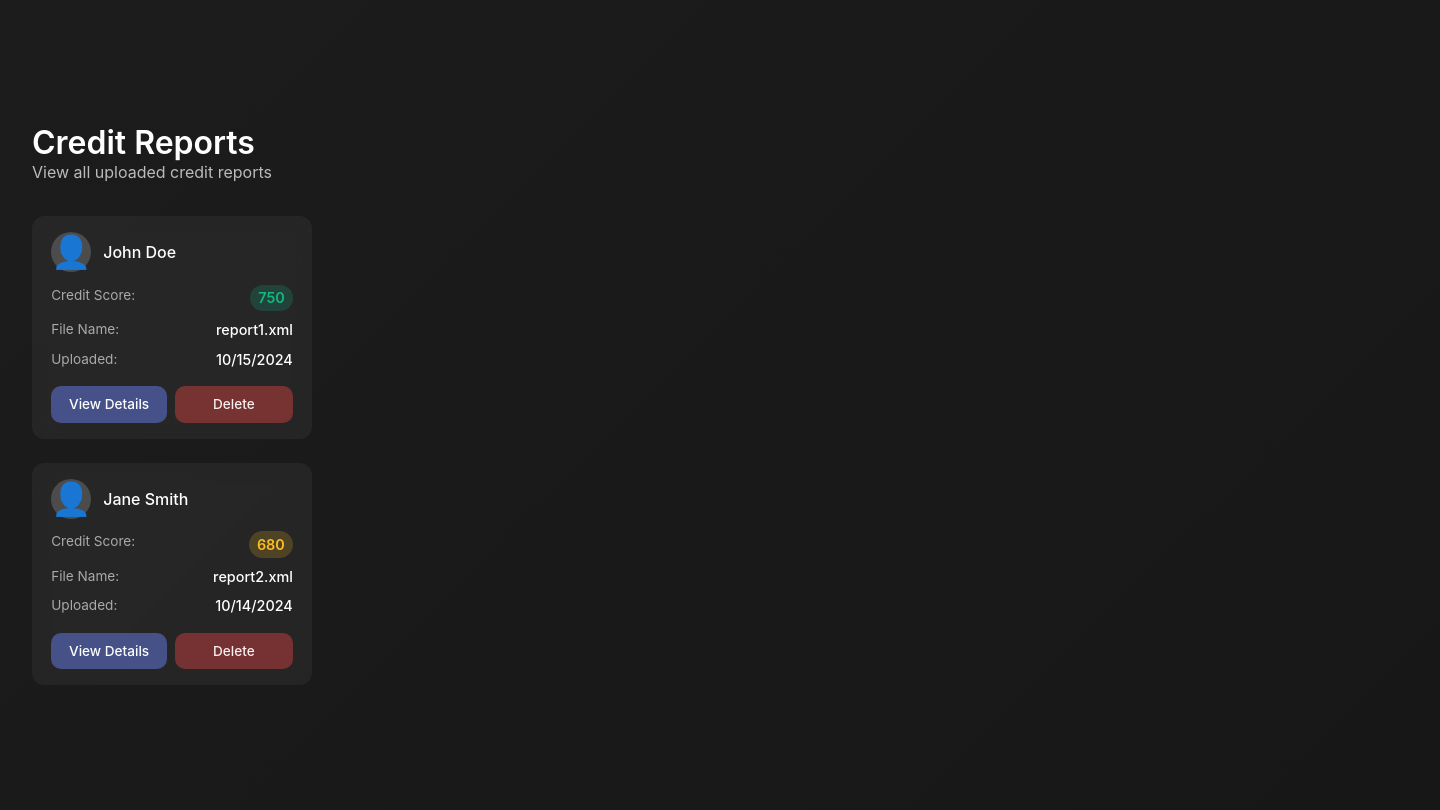
Test: ReportsListPage Component Tests › Report Actions › clicking overlay closes modal
The image size is (1440, 810).
Check: the heading "John Doe" is shown, box [103,240,176,264]
Click the button "Delete" below "10/15/2024": (234,404) [175,386,293,423]
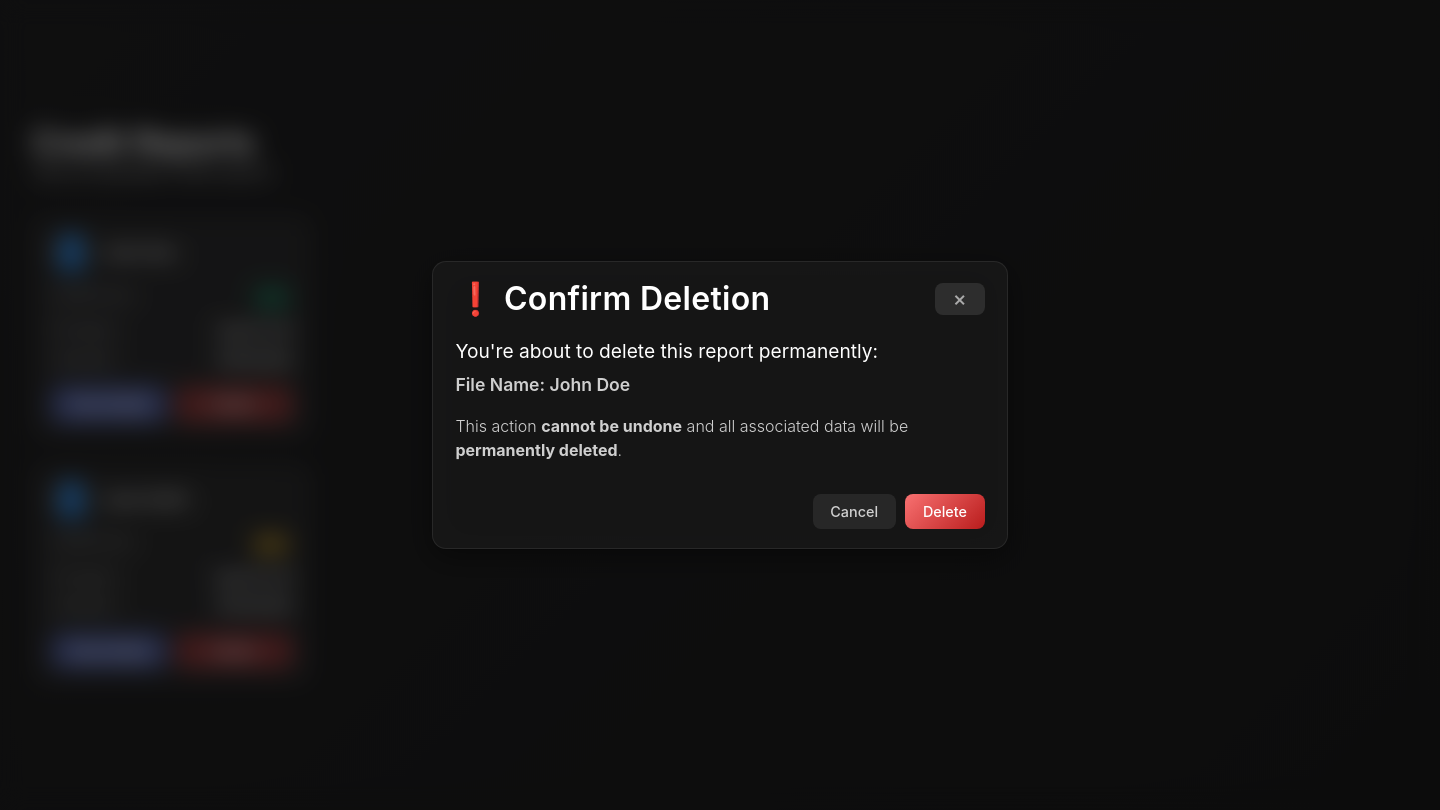
Check: the heading "❗ Confirm Deletion" is shown, box [455,281,770,316]
Click the element with class "modal-overlay": (86,405) [0,0,1439,809]
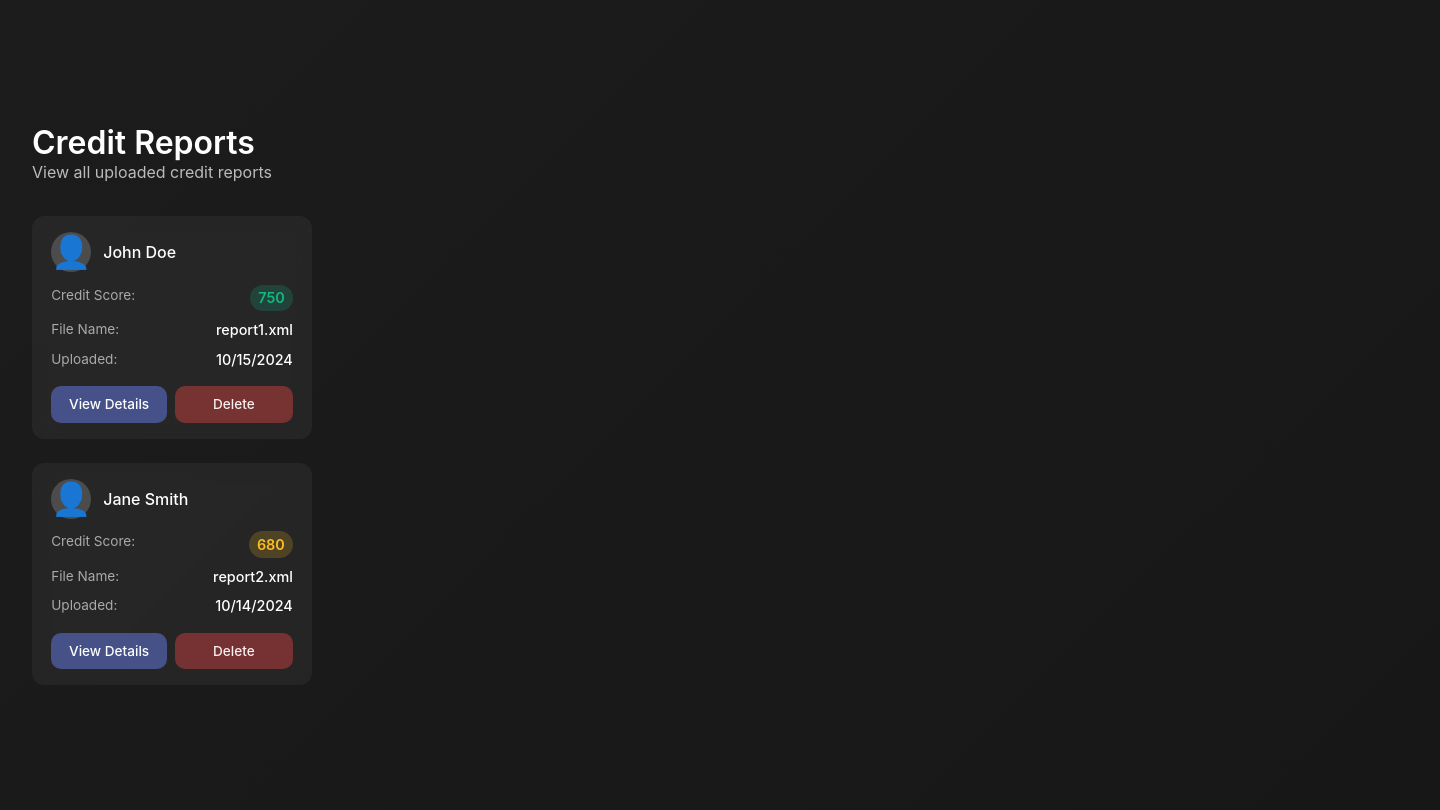
Check: the heading "Confirm Deletion" is gone
